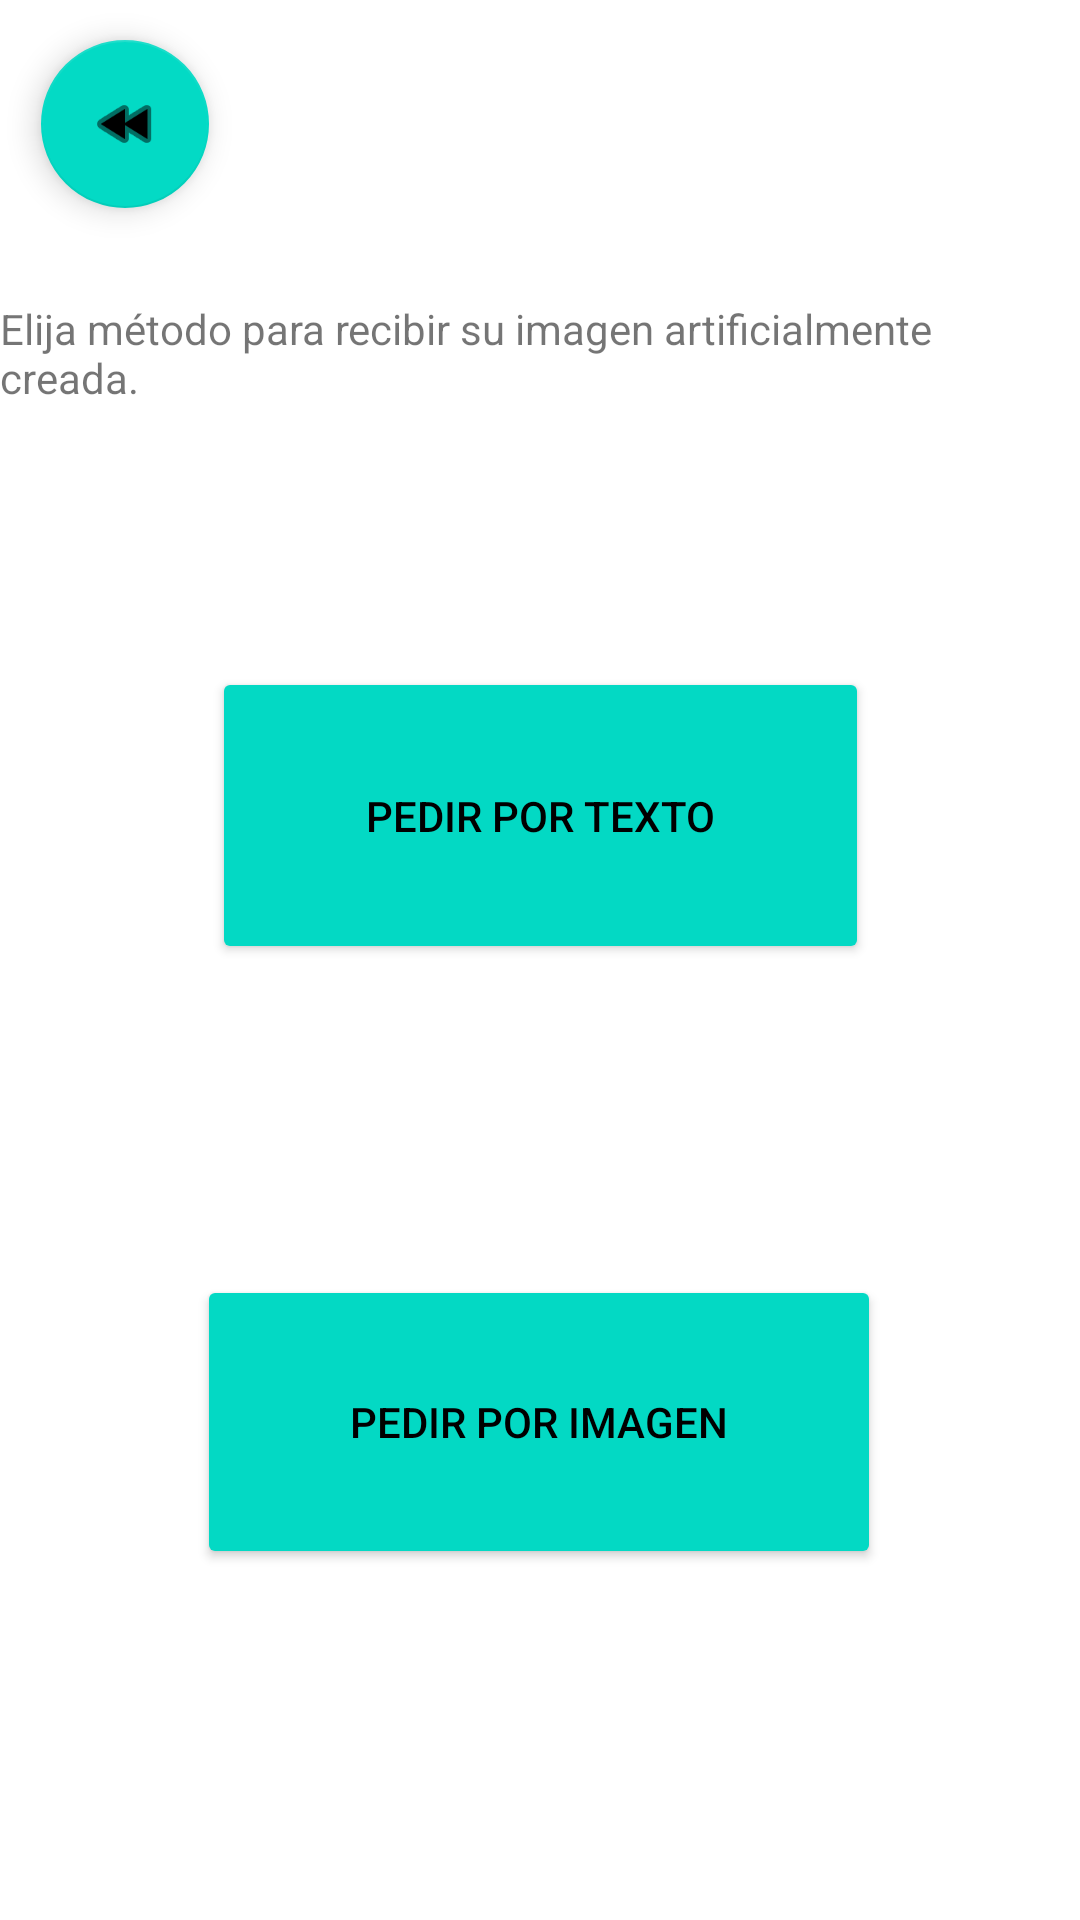

Icons on this 1080px x 1920px Android screen, each with its box as {"left": x1, "top": y1, "right": x2, "bottom": y2}:
rew: {"left": 41, "top": 40, "right": 209, "bottom": 208}
